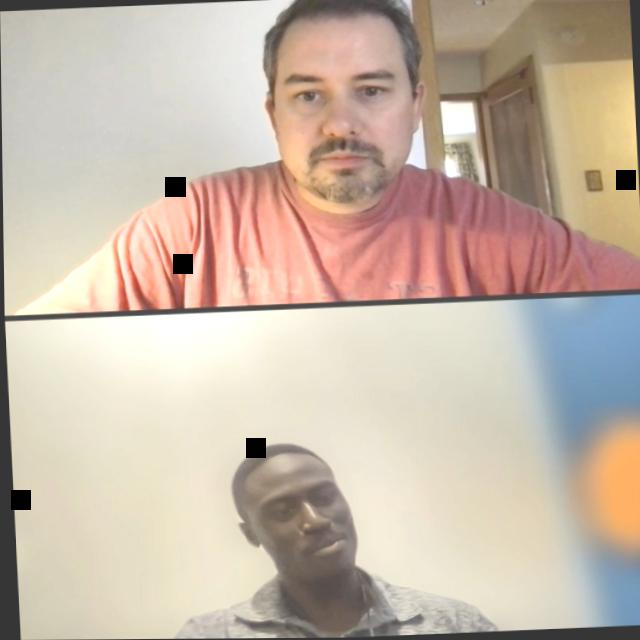NO-Mask: (258, 6, 426, 209), (228, 441, 358, 591)
